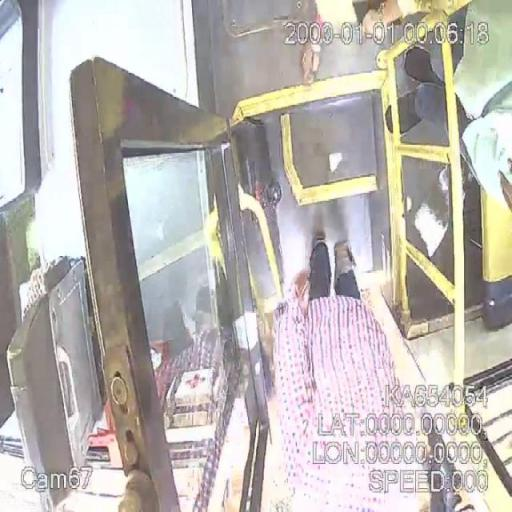persona: (272, 238, 454, 511)
